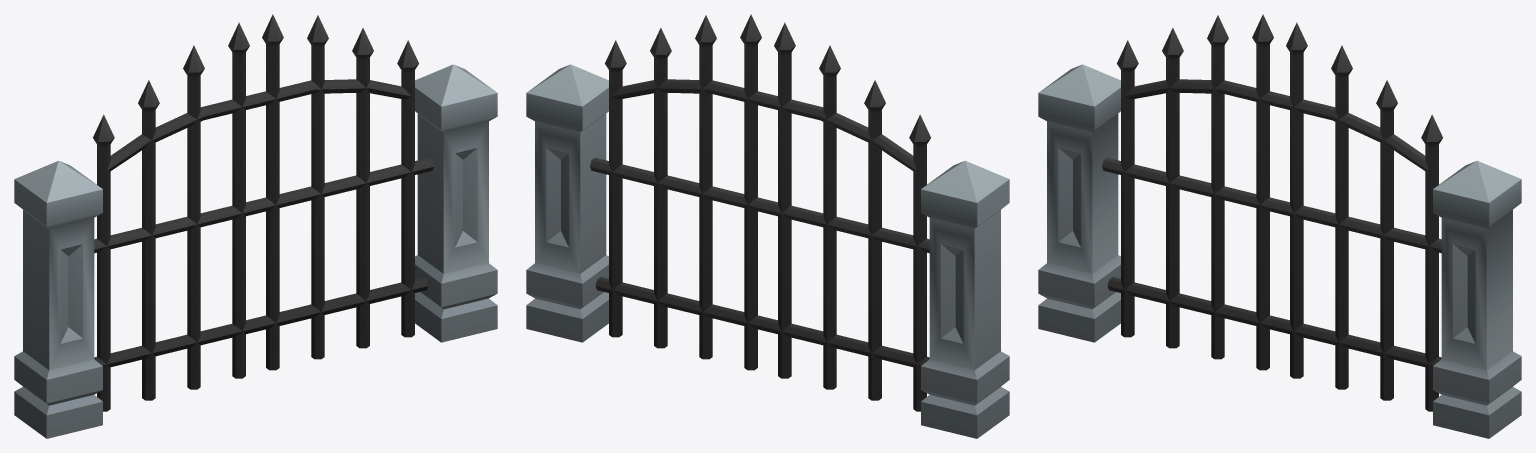
Rendered from fence_gate.gltf.
3 views of the same model, side by side, from view 1: azimuth 30°, elevation 25°; view 2: azimuth 150°, elevation 25°; view 3: azimuth 330°, elevation 25° (orthographic).
Visible parts, largest first — view 1: fence_gate, fence_gate_left, fence_gate_right; view 2: fence_gate, fence_gate_left, fence_gate_right; view 3: fence_gate, fence_gate_right, fence_gate_left.
Boxes of the visible parts, bbox=[...] form: fence_gate: bbox=[14, 64, 497, 438]; fence_gate_left: bbox=[254, 14, 433, 370]; fence_gate_right: bbox=[93, 22, 259, 411]; fence_gate: bbox=[526, 64, 1009, 438]; fence_gate_left: bbox=[590, 14, 769, 370]; fence_gate_right: bbox=[764, 22, 930, 411]; fence_gate: bbox=[1038, 64, 1521, 438]; fence_gate_right: bbox=[1102, 14, 1281, 370]; fence_gate_left: bbox=[1276, 22, 1442, 411].
Size of the model in its own units: 4 by 3 by 0.5.
1 material, 1 textured.
